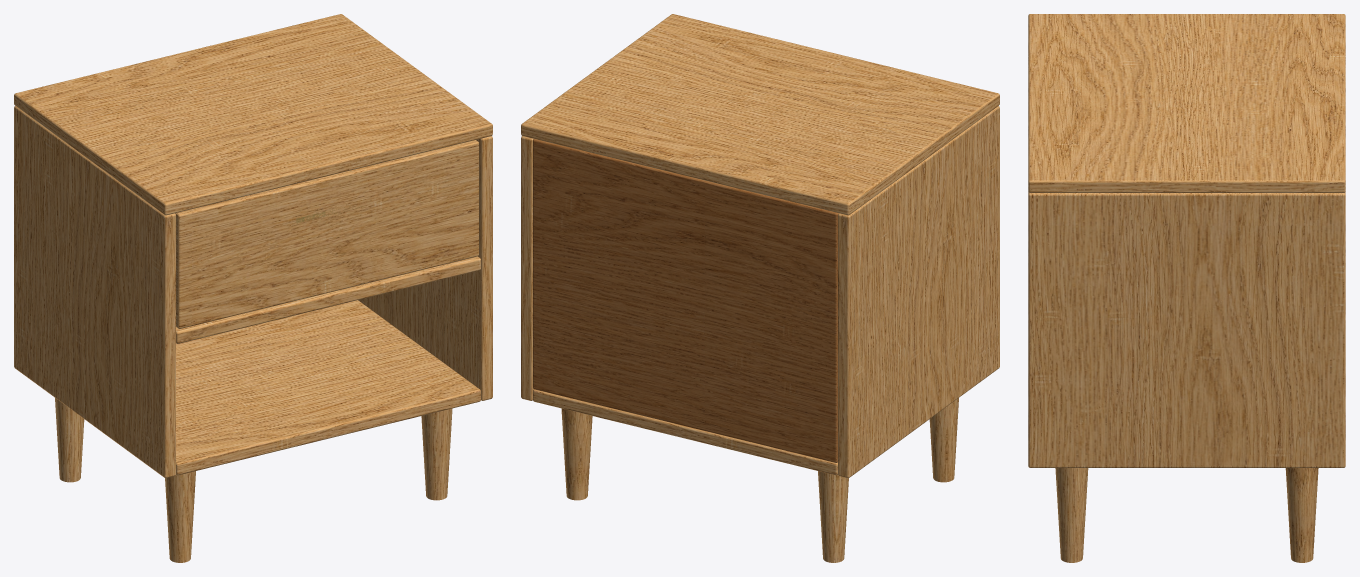
File: nook-nightstand.glb
3 views of the same model, side by side, from view 1: azimuth 30°, elevation 25°; view 2: azimuth 150°, elevation 25°; view 3: azimuth 270°, elevation 25° (orthographic). The views are drawn at different scales.
Visible parts, largest first — view 1: Top, Left side, Drawer front, Bottom, Right side, Support shelf, Leg 2, Leg 4, Leg 1; view 2: Rear panel, Top, Left side, Bottom, Right side, Leg 1, Leg 3, Leg 2; view 3: Right side, Top, Leg 3, Leg 4.
Boxes of the visible parts, x1,y1,x2,y2 form: Top: (14, 14, 492, 215); Left side: (14, 106, 175, 478); Drawer front: (175, 140, 478, 328); Bottom: (176, 300, 480, 475); Right side: (358, 136, 492, 400); Support shelf: (176, 256, 480, 343); Leg 2: (165, 471, 195, 562); Leg 4: (421, 408, 452, 500); Leg 1: (55, 398, 84, 482); Rear panel: (533, 139, 838, 462); Top: (521, 14, 999, 215); Left side: (838, 106, 999, 478); Bottom: (533, 389, 837, 475); Right side: (521, 136, 533, 400); Leg 1: (818, 471, 848, 562); Leg 3: (561, 408, 592, 500); Leg 2: (929, 398, 958, 482); Right side: (1028, 192, 1345, 467); Top: (1028, 14, 1345, 192); Leg 3: (1285, 468, 1318, 562); Leg 4: (1055, 468, 1088, 562).
Size of the model in its own units: 0.5 by 0.55 by 0.4.
Materials: 3 (2 with a texture image).
